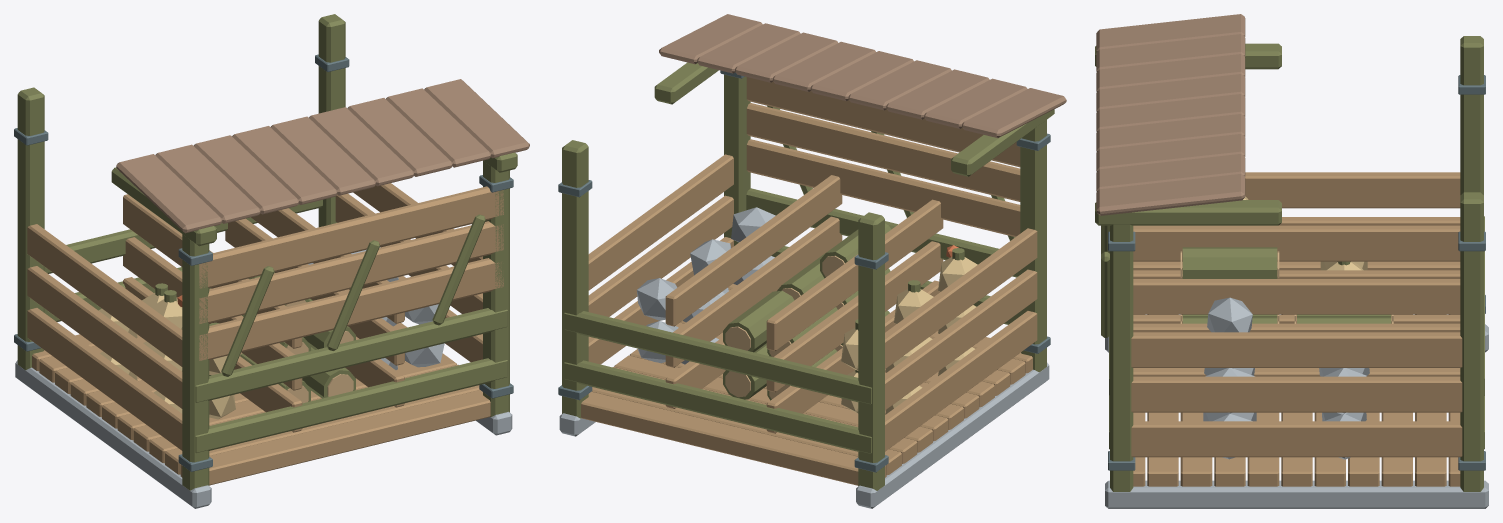
The model's file is storage_depot_goblin.glb.
The picture shows the model from 3 angles, left to right: view 1: azimuth 30°, elevation 25°; view 2: azimuth 150°, elevation 25°; view 3: azimuth 270°, elevation 25°; orthographic projection. The views are drawn at different scales.
Parts seen in each view (by area): view 1: WarehouseFrame, Cargo.010, Cargo.008, Cargo.019; view 2: WarehouseFrame, Cargo.016, Cargo.025, Cargo.017, Cargo.012, Cargo.008, Cargo.026, Cargo.014, Cargo.005, Cargo.023, Cargo.007; view 3: WarehouseFrame, Cargo.017, Cargo.026, Cargo.016.
Part boxes in pixels (x1,y1,x2,y2): WarehouseFrame: (14,14,529,508); Cargo.010: (302,347,355,398); Cargo.008: (151,290,182,329); Cargo.019: (405,343,444,367); WarehouseFrame: (558,14,1066,508); Cargo.016: (723,290,794,352); Cargo.025: (636,278,677,320); Cargo.017: (820,223,891,278); Cargo.012: (723,343,768,399); Cargo.008: (938,245,977,291); Cargo.026: (731,207,775,242); Cargo.014: (777,253,825,300); Cargo.005: (894,280,933,323); Cargo.023: (690,239,730,275); Cargo.007: (841,319,858,370); WarehouseFrame: (1095,14,1488,508); Cargo.017: (1180,247,1279,278); Cargo.026: (1207,297,1252,332); Cargo.016: (1294,317,1393,323).
Size of the model in its own units: 2.17 by 1.82 by 2.
